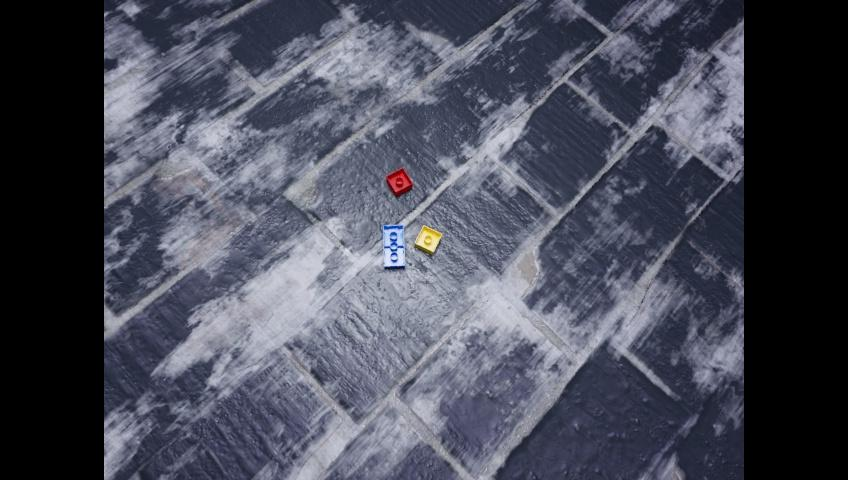2x2_red: (386, 167, 412, 196)
2x2_yellow: (414, 224, 441, 254)
4x2_blue: (383, 224, 404, 268)
